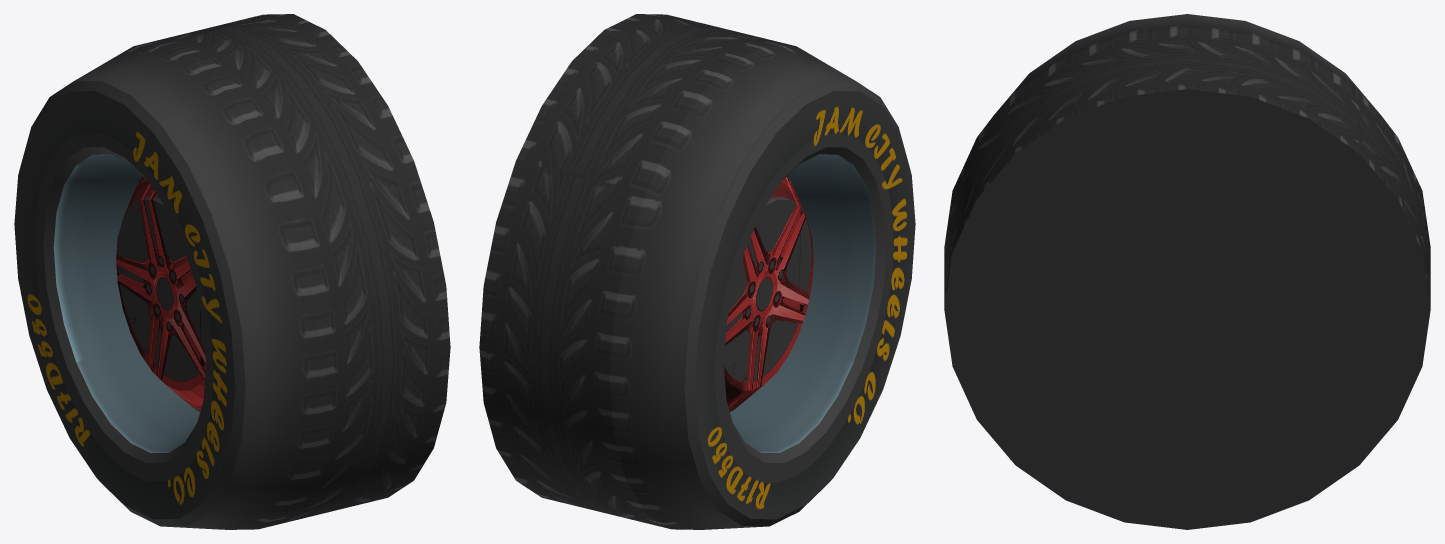
Rendered from wheel01.FBX.
3 renders of one model, left to right at view 1: azimuth 30°, elevation 25°; view 2: azimuth 150°, elevation 25°; view 3: azimuth 270°, elevation 25°, orthographic. The views are drawn at different scales.
Visible parts, largest first — view 1: WheelMappedFL; view 2: WheelMappedFL; view 3: WheelMappedFL.
Part boxes in pixels (x1,y1,x2,y2): WheelMappedFL: (14,14,450,529); WheelMappedFL: (479,14,915,529); WheelMappedFL: (944,14,1430,529).
Size of the model in its own units: 3.72 by 8 by 8.
1 material, 1 textured.
